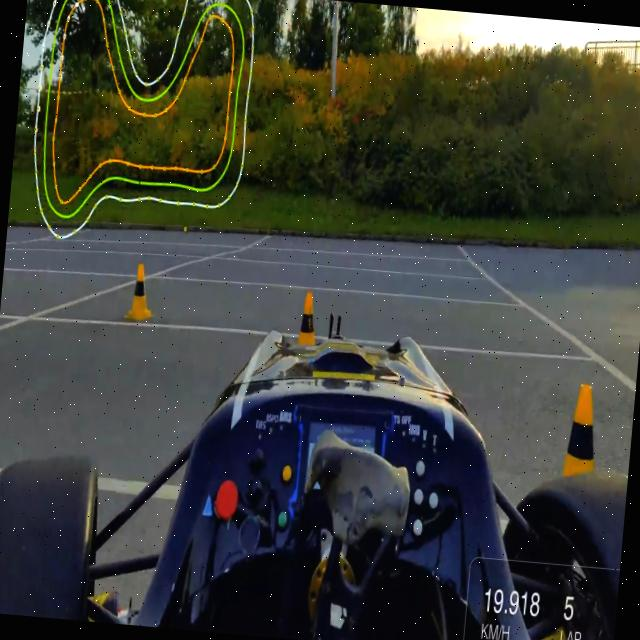yellow_cone: (549, 381, 610, 534), (288, 292, 328, 385), (125, 262, 155, 324)
